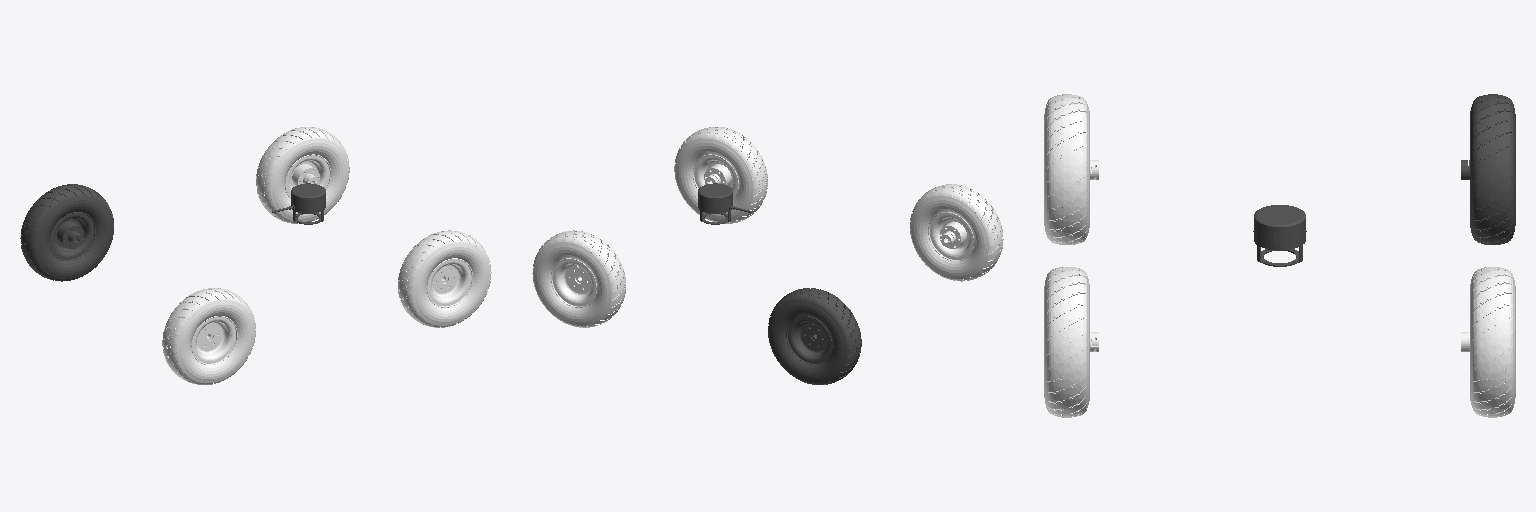
URDF robot description (top_4wd_bs_robot):
<?xml version="1.0" encoding="utf-8"?>
<!-- This URDF was automatically created by SolidWorks to URDF Exporter! Originally created by [author] ([email redacted]) 
     Commit Version: 1.6.0-4-g7f85cfe  Build Version: 1.6.7995.38578
     For more information, please see http://wiki.ros.org/sw_urdf_exporter -->
<robot
  name="top_4wd_bs_robot">
  <link
    name="base_link">
    <inertial>
      <origin
        xyz="-0.00277255825500079 -0.000478963780930032 0.046509255816555"
        rpy="0 0 0" />
      <mass
        value="4.86633613355105" />
      <inertia
        ixx="0.0372514011528414"
        ixy="-4.62534191070035E-05"
        ixz="2.55825349866828E-08"
        iyy="0.0356399859623993"
        iyz="-5.69403764955729E-07"
        izz="0.0712829515865101" />
    </inertial>
    <visual>
      <origin
        xyz="0 0 0"
        rpy="0 0 0" />
      <geometry>
        <mesh
          filename="package://wheeltec_robot_urdf/meshes/top_4wd_bs_robot_meshes/base_link.STL" />
      </geometry>
      <material
        name="">
        <color
          rgba="0.741176470588235 0.901960784313726 0.956862745098039 1" />
      </material>
    </visual>
    <collision>
      <origin
        xyz="0 0 0"
        rpy="0 0 0" />
      <geometry>
        <mesh
          filename="package://wheeltec_robot_urdf/meshes/top_4wd_bs_robot_meshes/base_link.STL" />
      </geometry>
    </collision>
  </link>
  <link
    name="lf_wheel_link">
    <inertial>
      <origin
        xyz="2.33147439326897E-06 -0.00066731925949115 -3.20585281508162E-06"
        rpy="0 0 0" />
      <mass
        value="2.02582703846585" />
      <inertia
        ixx="0.00759863350407929"
        ixy="5.61904301182527E-08"
        ixz="1.21556276807896E-08"
        iyy="0.014069764825789"
        iyz="-5.70809539265976E-08"
        izz="0.0075988024957954" />
    </inertial>
    <visual>
      <origin
        xyz="0 0 0"
        rpy="0 0 0" />
      <geometry>
        <mesh
          filename="package://wheeltec_robot_urdf/meshes/top_4wd_bs_robot_meshes/lf_wheel_link.STL" />
      </geometry>
      <material
        name="">
        <color
          rgba="1 1 1 1" />
      </material>
    </visual>
    <collision>
      <origin
        xyz="0 0 0"
        rpy="0 0 0" />
      <geometry>
        <mesh
          filename="package://wheeltec_robot_urdf/meshes/top_4wd_bs_robot_meshes/lf_wheel_link.STL" />
      </geometry>
    </collision>
  </link>
  <joint
    name="lf_wheel_joint"
    type="continuous">
    <origin
      xyz="0.307993160645862 0.319417641802979 0.0225"
      rpy="0 0 0" />
    <parent
      link="base_link" />
    <child
      link="lf_wheel_link" />
    <axis
      xyz="0 -1 0" />
  </joint>
  <link
    name="lb_wheel_link">
    <inertial>
      <origin
        xyz="2.33146809774931E-06 -0.000667319259271437 -3.20581987872659E-06"
        rpy="0 0 0" />
      <mass
        value="2.02582703846616" />
      <inertia
        ixx="0.00759863350794126"
        ixy="5.61882070315788E-08"
        ixz="1.21510891612367E-08"
        iyy="0.0140697648257947"
        iyz="-5.70795630446009E-08"
        izz="0.00759880249193592" />
    </inertial>
    <visual>
      <origin
        xyz="0 0 0"
        rpy="0 0 0" />
      <geometry>
        <mesh
          filename="package://wheeltec_robot_urdf/meshes/top_4wd_bs_robot_meshes/lb_wheel_link.STL" />
      </geometry>
      <material
        name="">
        <color
          rgba="0.376470588235294 0.376470588235294 0.376470588235294 1" />
      </material>
    </visual>
    <collision>
      <origin
        xyz="0 0 0"
        rpy="0 0 0" />
      <geometry>
        <mesh
          filename="package://wheeltec_robot_urdf/meshes/top_4wd_bs_robot_meshes/lb_wheel_link.STL" />
      </geometry>
    </collision>
  </link>
  <joint
    name="lb_wheel_joint"
    type="continuous">
    <origin
      xyz="-0.304006839354138 0.319417641802977 0.0225"
      rpy="0 0 0" />
    <parent
      link="base_link" />
    <child
      link="lb_wheel_link" />
    <axis
      xyz="0 -1 0" />
  </joint>
  <link
    name="rb_wheel_link">
    <inertial>
      <origin
        xyz="-2.33147029632397E-06 0.000667319259271271 -3.20581987801188E-06"
        rpy="0 0 0" />
      <mass
        value="2.02582703846619" />
      <inertia
        ixx="0.00759863350794142"
        ixy="5.61882070454243E-08"
        ixz="-1.2151089222143E-08"
        iyy="0.0140697648257949"
        iyz="5.70795630549666E-08"
        izz="0.00759880249193603" />
    </inertial>
    <visual>
      <origin
        xyz="0 0 0"
        rpy="0 0 0" />
      <geometry>
        <mesh
          filename="package://wheeltec_robot_urdf/meshes/top_4wd_bs_robot_meshes/rb_wheel_link.STL" />
      </geometry>
      <material
        name="">
        <color
          rgba="1 1 1 1" />
      </material>
    </visual>
    <collision>
      <origin
        xyz="0 0 0"
        rpy="0 0 0" />
      <geometry>
        <mesh
          filename="package://wheeltec_robot_urdf/meshes/top_4wd_bs_robot_meshes/rb_wheel_link.STL" />
      </geometry>
    </collision>
  </link>
  <joint
    name="rb_wheel_joint"
    type="continuous">
    <origin
      xyz="-0.304006839354135 -0.319382358197023 0.0225"
      rpy="0 0 0" />
    <parent
      link="base_link" />
    <child
      link="rb_wheel_link" />
    <axis
      xyz="0 1 0" />
  </joint>
  <link
    name="rf_wheel_link">
    <inertial>
      <origin
        xyz="-2.33147253170252E-06 0.000667319259042065 -3.20585080287872E-06"
        rpy="0 0 0" />
      <mass
        value="2.02582703846609" />
      <inertia
        ixx="0.0075986335049815"
        ixy="5.61900991951171E-08"
        ixz="-1.21565680875724E-08"
        iyy="0.0140697648257943"
        iyz="5.70810505087985E-08"
        izz="0.00759880249489521" />
    </inertial>
    <visual>
      <origin
        xyz="0 0 0"
        rpy="0 0 0" />
      <geometry>
        <mesh
          filename="package://wheeltec_robot_urdf/meshes/top_4wd_bs_robot_meshes/rf_wheel_link.STL" />
      </geometry>
      <material
        name="">
        <color
          rgba="1 1 1 1" />
      </material>
    </visual>
    <collision>
      <origin
        xyz="0 0 0"
        rpy="0 0 0" />
      <geometry>
        <mesh
          filename="package://wheeltec_robot_urdf/meshes/top_4wd_bs_robot_meshes/rf_wheel_link.STL" />
      </geometry>
    </collision>
  </link>
  <joint
    name="rf_wheel_joint"
    type="continuous">
    <origin
      xyz="0.307993160645865 -0.319382358197021 0.0225"
      rpy="0 0 0" />
    <parent
      link="base_link" />
    <child
      link="rf_wheel_link" />
    <axis
      xyz="0 1 0" />
  </joint>
  <link
    name="laser_link">
    <inertial>
      <origin
        xyz="0.00196458631115942 -3.57895338318363E-06 -0.000201831632144336"
        rpy="0 0 0" />
      <mass
        value="0.0477519163695691" />
      <inertia
        ixx="3.38461999733358E-05"
        ixy="-2.19897013260009E-09"
        ixz="1.0711846870663E-06"
        iyy="3.94150415850317E-05"
        iyz="6.83978642598821E-10"
        izz="5.6078704209586E-05" />
    </inertial>
    <visual>
      <origin
        xyz="0 0 0"
        rpy="0 0 0" />
      <geometry>
        <mesh
          filename="package://wheeltec_robot_urdf/meshes/top_4wd_bs_robot_meshes/laser.STL" />
      </geometry>
      <material
        name="">
        <color
          rgba="0.376470588235294 0.376470588235294 0.376470588235294 1" />
      </material>
    </visual>
    <collision>
      <origin
        xyz="0 0 0"
        rpy="0 0 0" />
      <geometry>
        <mesh
          filename="package://wheeltec_robot_urdf/meshes/top_4wd_bs_robot_meshes/laser.STL" />
      </geometry>
    </collision>
  </link>
  <joint
    name="laser_joint"
    type="fixed">
    <origin
      xyz="0.138557024250412 1.7991757980874E-05 0.126524183741431"
      rpy="0 0 -3.14159265358979" />
    <parent
      link="base_link" />
    <child
      link="laser_link" />
    <axis
      xyz="0 0 0" />
  </joint>
  <link
    name="camera_link">
    <inertial>
      <origin
        xyz="-4.46904770856626E-07 -3.53613894333346E-07 1.07624235631126E-07"
        rpy="0 0 0" />
      <mass
        value="0.0559842512080098" />
      <inertia
        ixx="0.000130810959339212"
        ixy="1.20255128207229E-07"
        ixz="1.62335437080119E-06"
        iyy="1.91148634967888E-05"
        iyz="-2.80016755800465E-08"
        izz="0.000131387469523025" />
    </inertial>
    <visual>
      <origin
        xyz="0 0 0"
        rpy="0 0 0" />
      <geometry>
        <mesh
          filename="package://wheeltec_robot_urdf/meshes/top_4wd_bs_robot_meshes/camera_link.STL" />
      </geometry>
      <material
        name="">
        <color
          rgba="1 1 1 1" />
      </material>
    </visual>
    <collision>
      <origin
        xyz="0 0 0"
        rpy="0 0 0" />
      <geometry>
        <mesh
          filename="package://wheeltec_robot_urdf/meshes/top_4wd_bs_robot_meshes/camera_link.STL" />
      </geometry>
    </collision>
  </link>
  <joint
    name="camera_joint"
    type="fixed">
    <origin
      xyz="0.208902160645864 0.000245641802979065 0.108204"
      rpy="0 0 0" />
    <parent
      link="base_link" />
    <child
      link="camera_link" />
    <axis
      xyz="0 0 0" />
  </joint>
  <link
    name="controller_link">
    <inertial>
      <origin
        xyz="-0.049710340054785 0.0175133932690655 0.0085600146488197"
        rpy="0 0 0" />
      <mass
        value="0.00107921954114688" />
      <inertia
        ixx="1.1633010999567E-08"
        ixy="-3.94092662514923E-09"
        ixz="3.69212982720649E-10"
        iyy="2.26830021861902E-07"
        iyz="5.23015112125968E-10"
        izz="2.25657044103404E-07" />
    </inertial>
    <visual>
      <origin
        xyz="0 0 0"
        rpy="0 0 0" />
      <geometry>
        <mesh
          filename="package://wheeltec_robot_urdf/meshes/top_4wd_bs_robot_meshes/controller_link.STL" />
      </geometry>
      <material
        name="">
        <color
          rgba="0.741176470588235 0.901960784313726 0.956862745098039 1" />
      </material>
    </visual>
    <collision>
      <origin
        xyz="0 0 0"
        rpy="0 0 0" />
      <geometry>
        <mesh
          filename="package://wheeltec_robot_urdf/meshes/top_4wd_bs_robot_meshes/controller_link.STL" />
      </geometry>
    </collision>
  </link>
  <joint
    name="controller_joint"
    type="fixed">
    <origin
      xyz="0.101379911991696 0.0620176418028593 0.00150000000000075"
      rpy="0 0 0" />
    <parent
      link="base_link" />
    <child
      link="controller_link" />
    <axis
      xyz="0 0 0" />
  </joint>
</robot>

--- Render facts (derived) ---
Views: 3 orthographic renders of the robot side by side, from view 1: azimuth 30°, elevation 25°; view 2: azimuth 150°, elevation 25°; view 3: azimuth 270°, elevation 25°.
Model top_4wd_bs_robot with 8 links and 7 joints (4 continuous, 3 fixed), rooted at base_link, posed every joint at zero.
Visible links, largest first — view 1: rb_wheel_link, lb_wheel_link, rf_wheel_link, lf_wheel_link, laser_link; view 2: lb_wheel_link, rb_wheel_link, lf_wheel_link, rf_wheel_link, laser_link; view 3: rf_wheel_link, rb_wheel_link, lf_wheel_link, lb_wheel_link, laser_link.
Boxes of the visible links, <box> form: rb_wheel_link: <box>162,288,255,384</box>; lb_wheel_link: <box>20,184,113,281</box>; rf_wheel_link: <box>398,230,491,327</box>; lf_wheel_link: <box>256,127,349,223</box>; laser_link: <box>272,183,325,224</box>; lb_wheel_link: <box>768,288,861,384</box>; rb_wheel_link: <box>910,184,1003,281</box>; lf_wheel_link: <box>532,230,625,327</box>; rf_wheel_link: <box>674,127,767,223</box>; laser_link: <box>698,183,751,224</box>; rf_wheel_link: <box>1044,267,1098,417</box>; rb_wheel_link: <box>1044,94,1098,244</box>; lf_wheel_link: <box>1461,267,1515,417</box>; lb_wheel_link: <box>1461,94,1515,244</box>; laser_link: <box>1253,205,1306,266</box>.
Size in the robot's own frame: 0.8389 by 0.7068 by 0.2451 metres.
Meshes: 8 distinct files referenced, 5 mesh visuals loaded (5 binary STL); not drawn: 3 (reference not matched to a file when rendering).